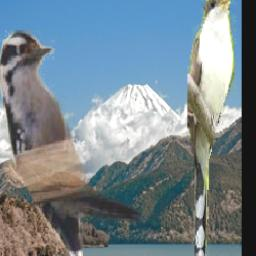Cuckoo: (187, 0, 237, 256)
Woodpecker: (0, 31, 140, 256)
